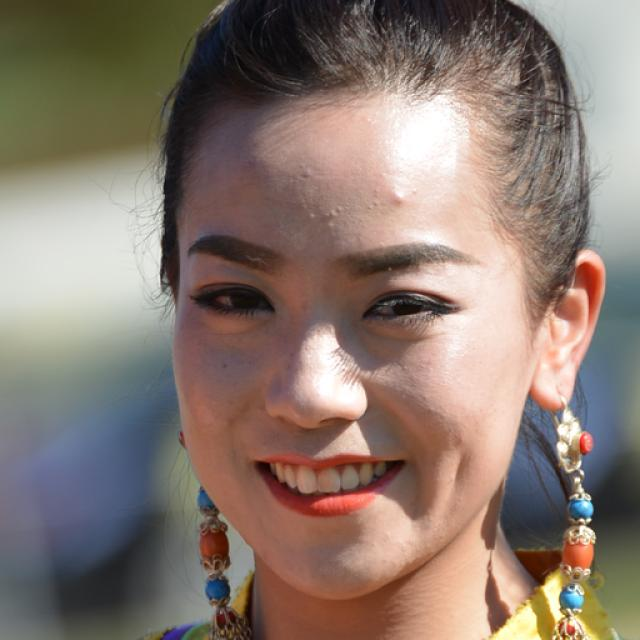Acne: (389, 190, 408, 209), (325, 206, 346, 222), (298, 168, 314, 180), (303, 210, 317, 223)
